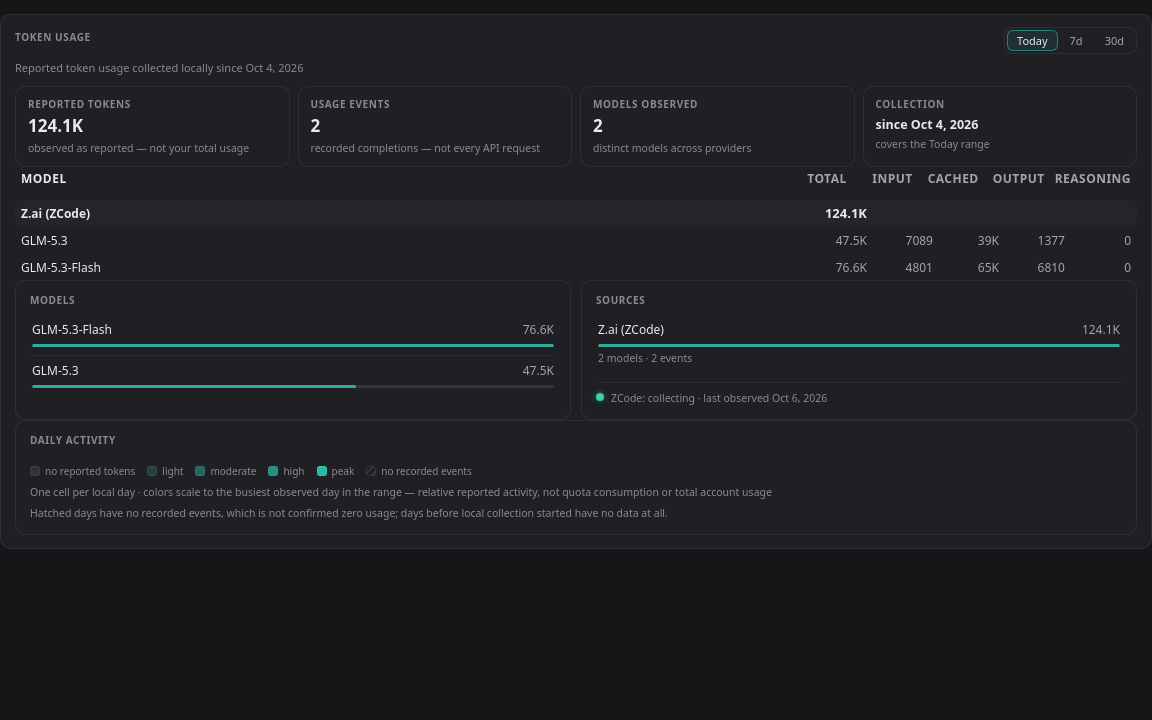
Test case: token usage section › restores the v0.9 KPI strip and model ranking with expand
The image size is (1152, 720).
Expected: the text "Reported tokens" is shown, [28,97,131,111]
Expected: the text "124.1K" below "Usage events" is shown, [28,114,83,137]
Click the button "GLM-5.3-Flash 76.6K": (72, 330) [30,316,556,355]
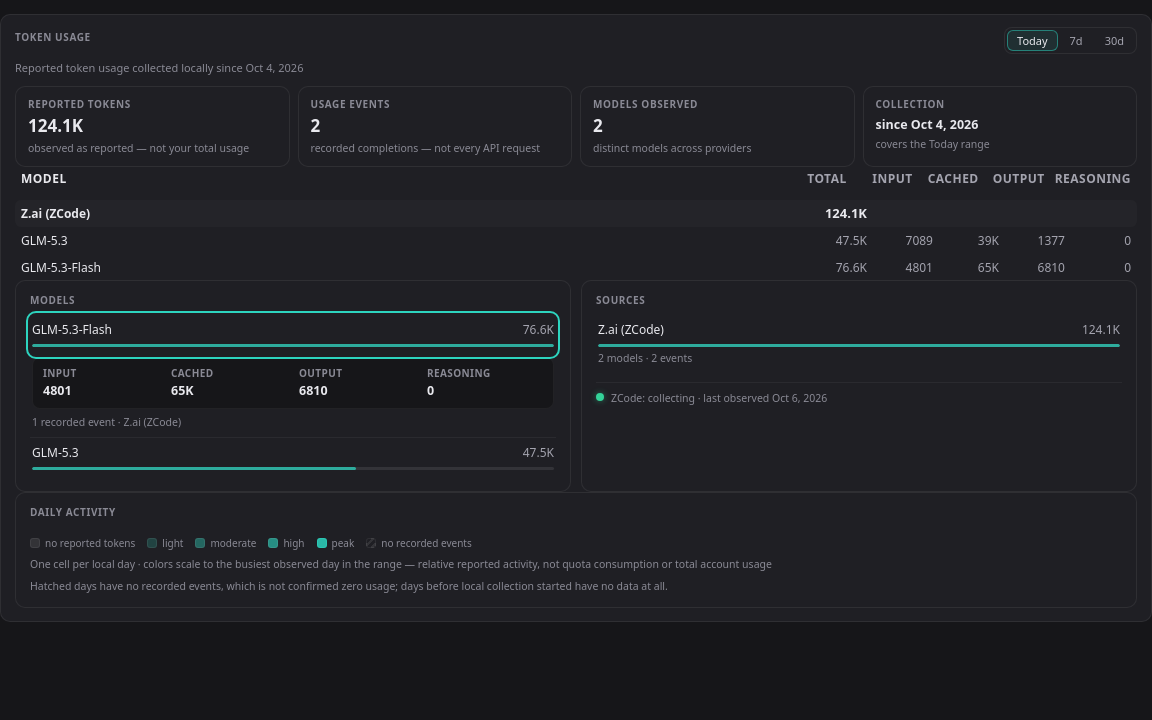
Expected: the text "Reasoning" is shown, [427,366,491,380]
Expected: the text "1 recorded event · Z.ai (ZCode)" is shown, [32,415,181,429]
